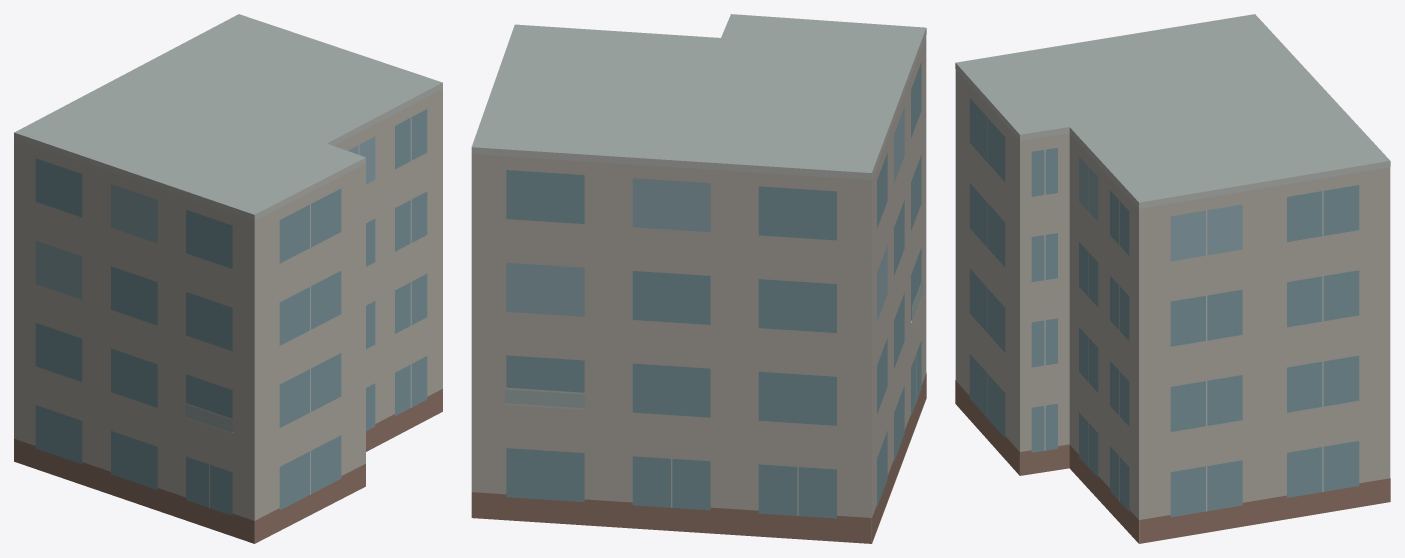
File: survey-upis-32842365.glb
3 renders of one model, left to right at view 1: azimuth 30°, elevation 25°; view 2: azimuth 150°, elevation 25°; view 3: azimuth 270°, elevation 25°, orthographic. The views are drawn at different scales.
Parts seen in each view (by area): view 1: survey-upis-32842365.tmp; view 2: survey-upis-32842365.tmp; view 3: survey-upis-32842365.tmp.
Part boxes in pixels (x1,y1,x2,y2): survey-upis-32842365.tmp: (14,14,442,543); survey-upis-32842365.tmp: (471,14,926,543); survey-upis-32842365.tmp: (955,14,1390,543).
Bounding box in the file's own units: 15.78 × 13.3 × 15.37.
